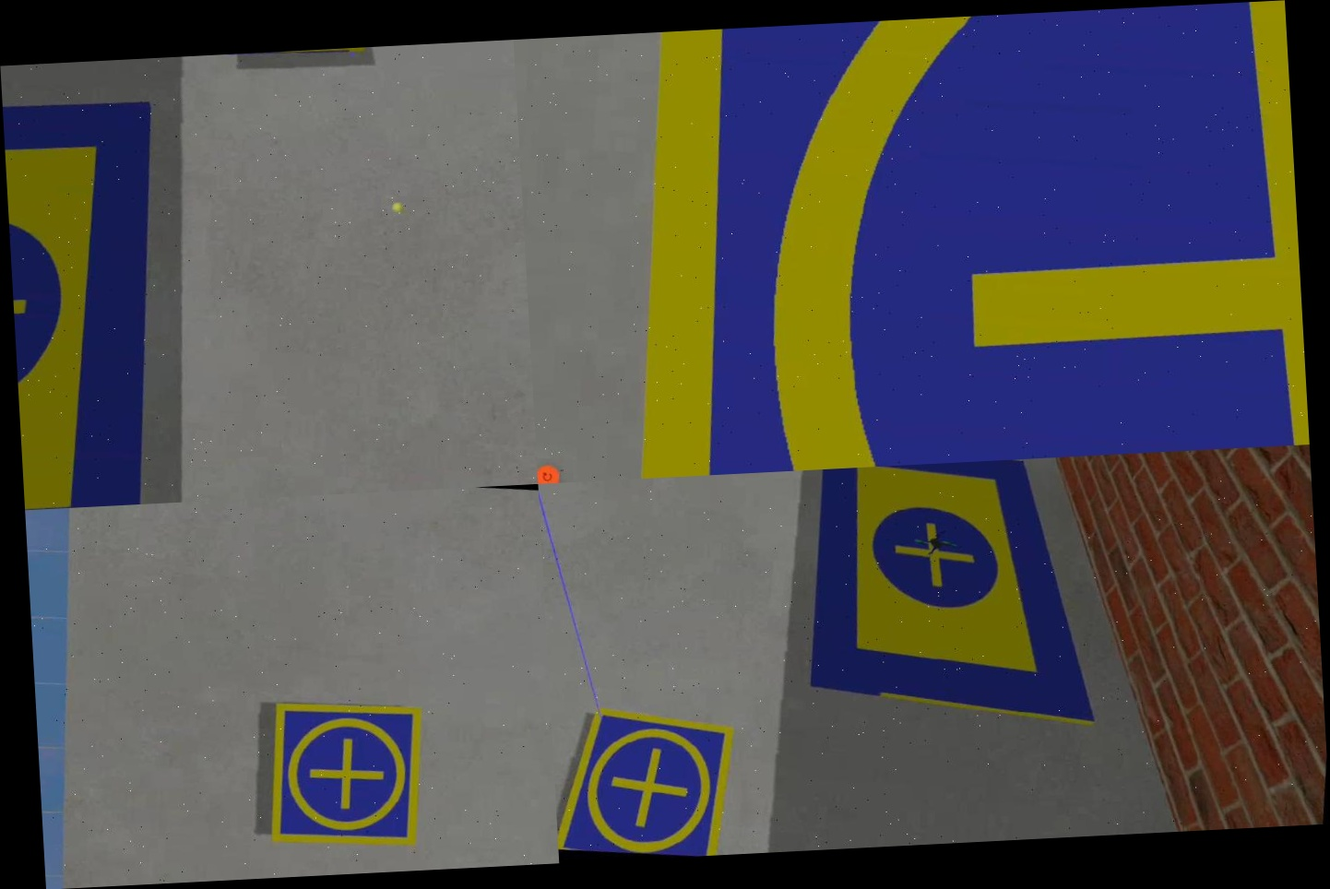large_base: (792, 455, 1128, 741), (0, 57, 194, 510)
small_base: (609, 0, 1309, 479), (551, 700, 742, 862), (260, 693, 435, 859)
